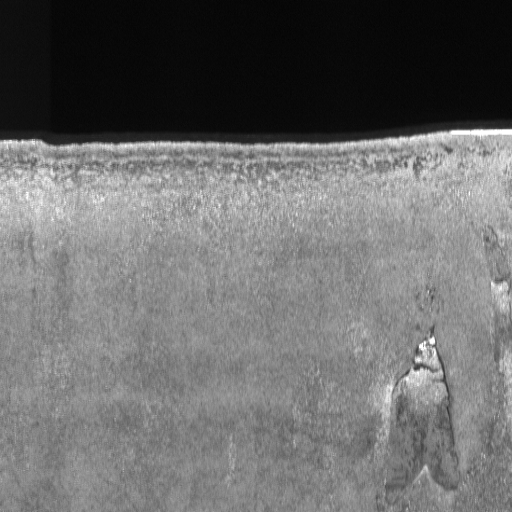aokeng: (381, 324, 462, 509)
